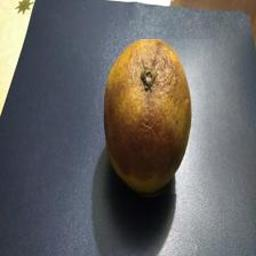Orange Rotten: (88, 39, 213, 200)
